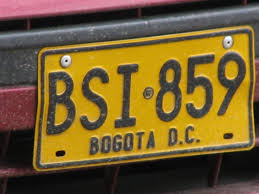placa_carro: (39, 25, 255, 173)
